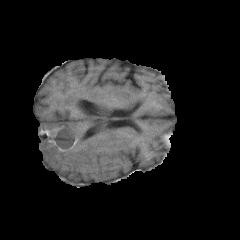glioma: (38, 96, 139, 180)
